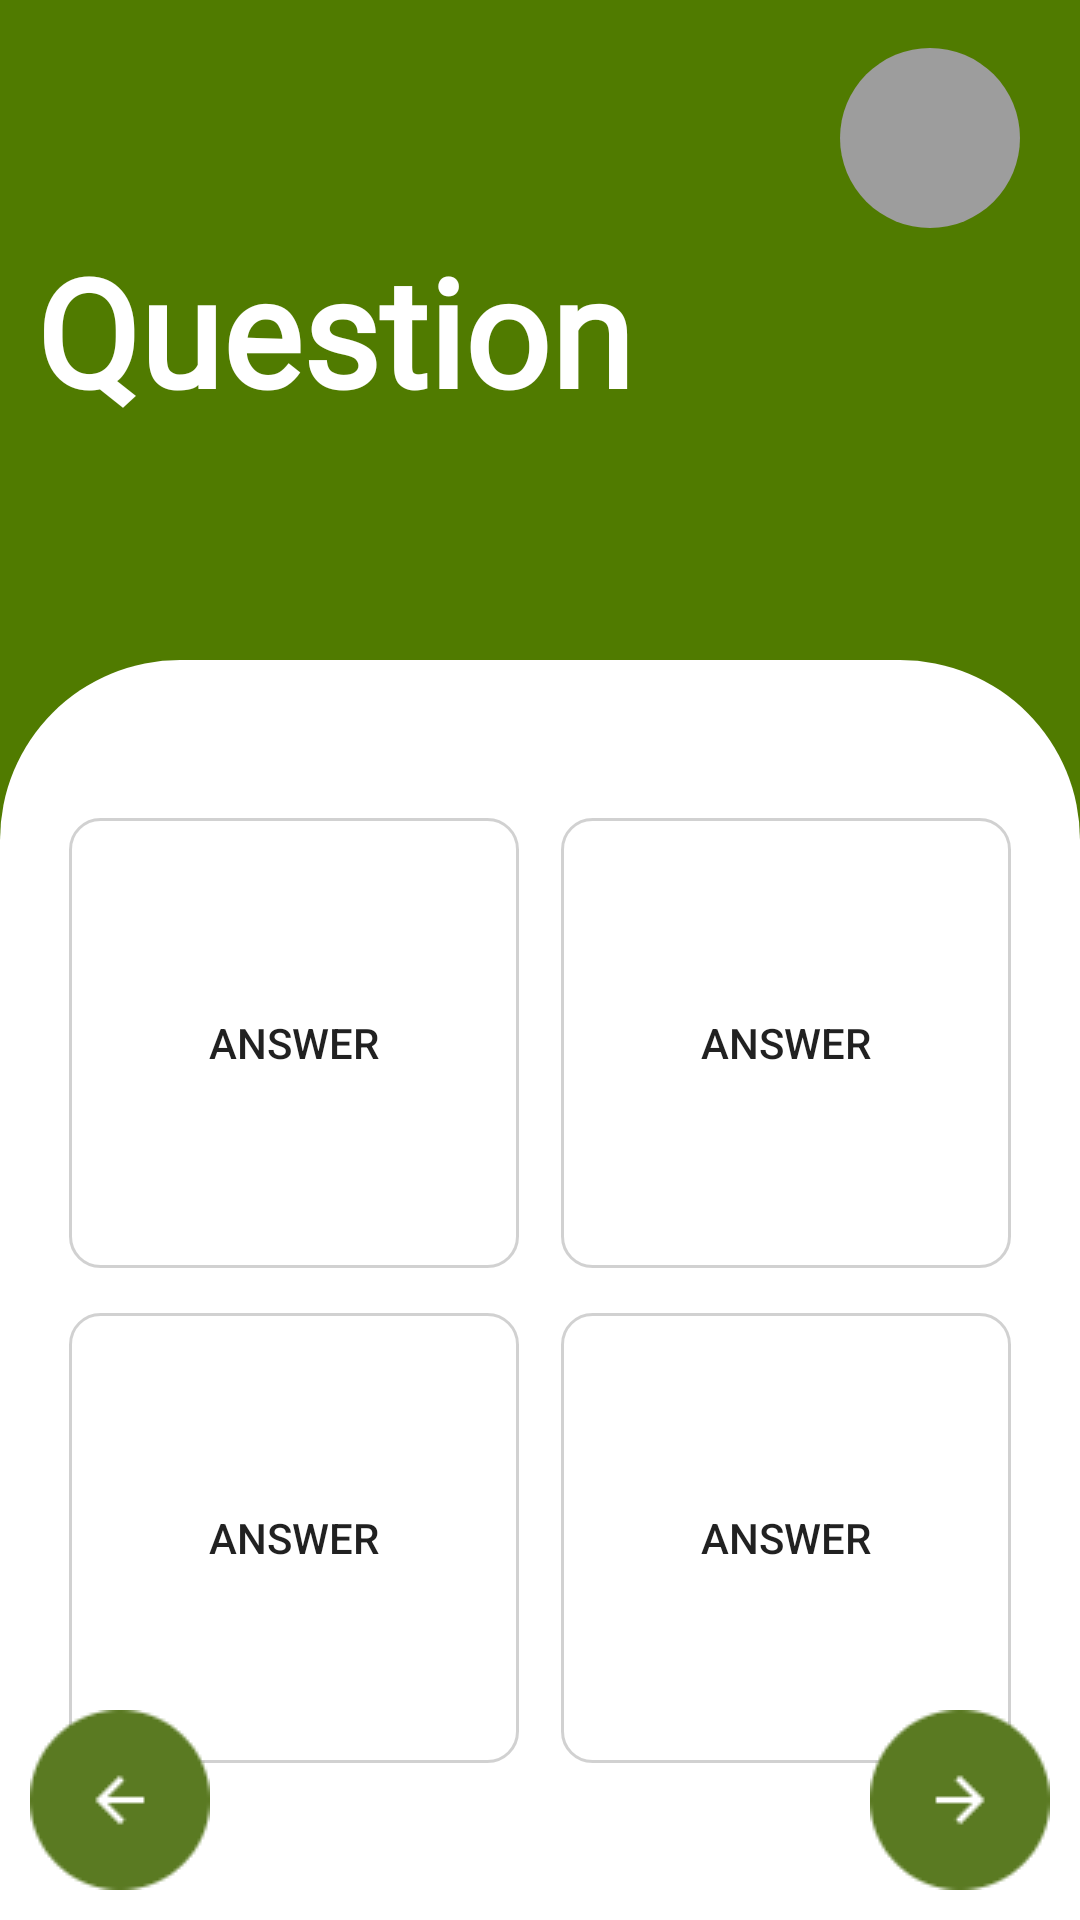

Where icons sit on this 1080w x 1920h app screen, as bbox(x1, y1, x2, y2):
left arrow: bbox(30, 1710, 210, 1890)
right arrow: bbox(870, 1710, 1050, 1890)
